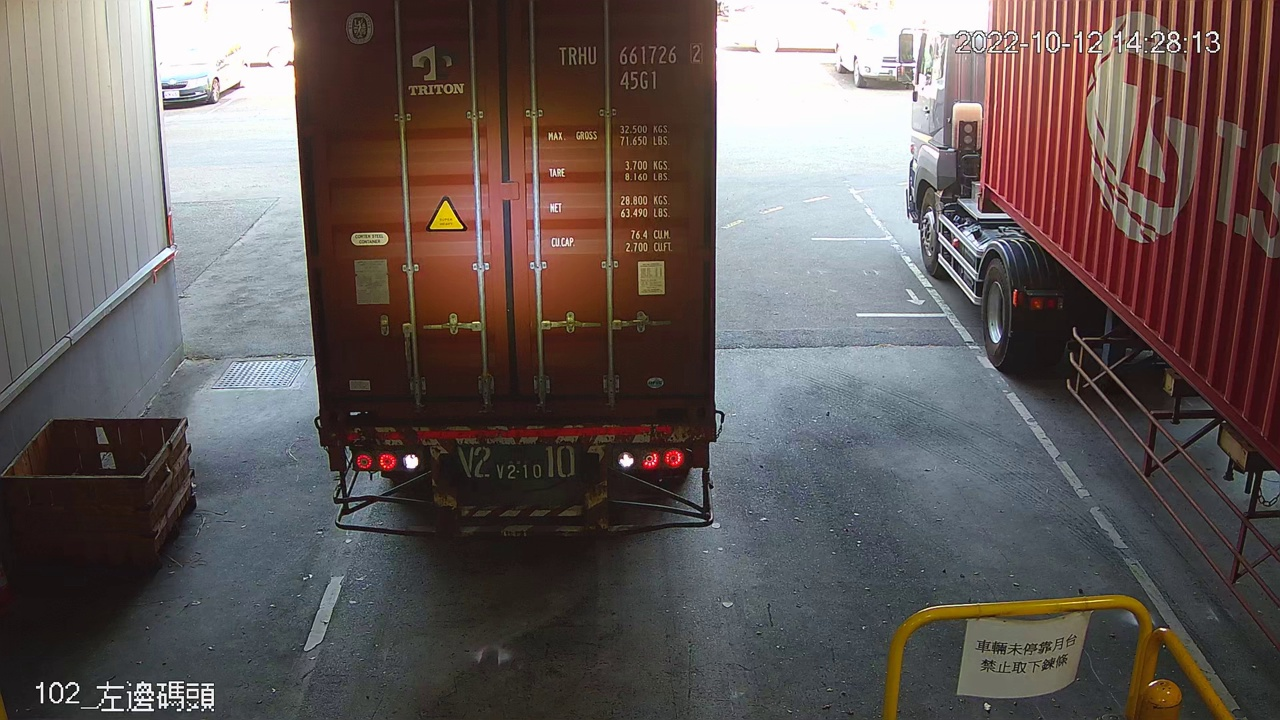container: (552, 37, 708, 97)
